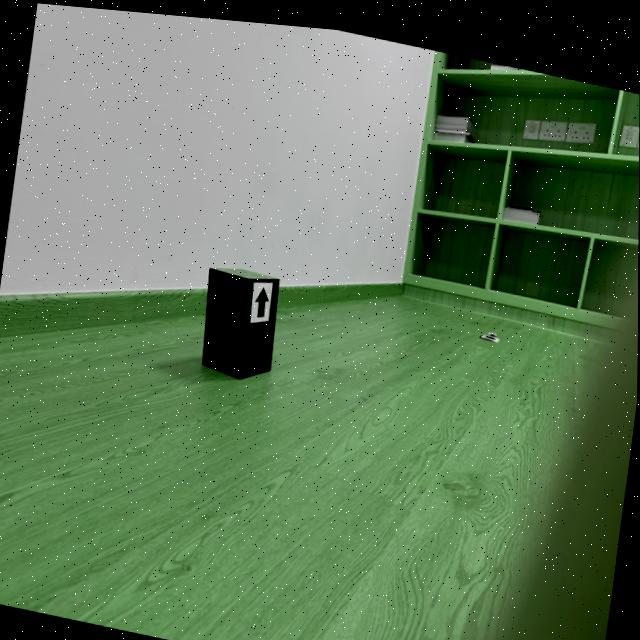UP: (255, 282, 269, 312)
